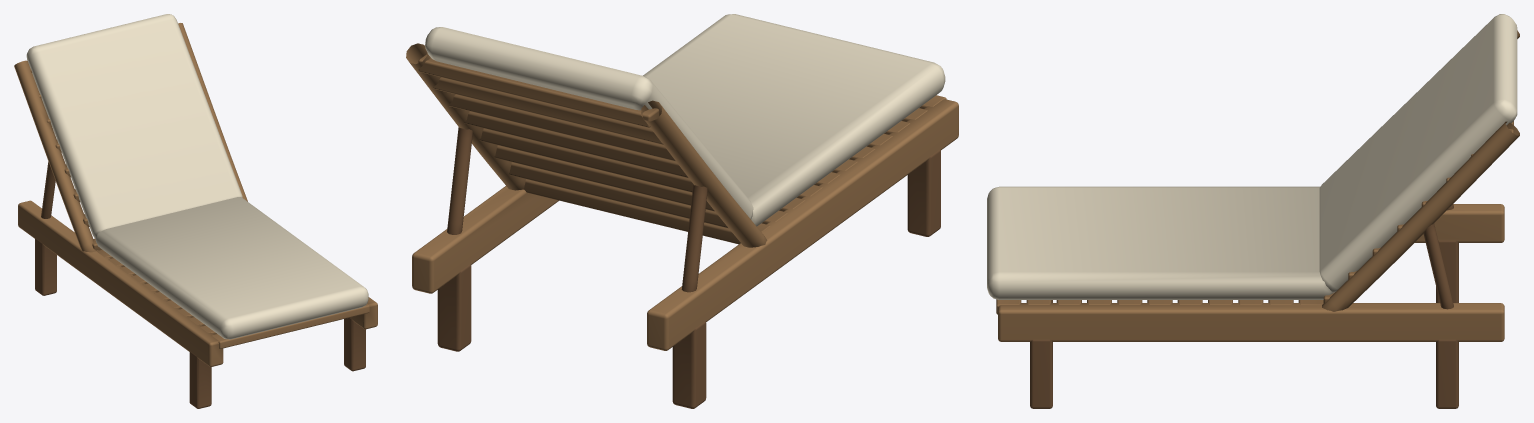
The model's file is lounger.glb.
3 renders of one model, left to right at view 1: azimuth 30°, elevation 25°; view 2: azimuth 150°, elevation 25°; view 3: azimuth 270°, elevation 25°, orthographic. The views are drawn at different scales.
Parts seen in each view (by area): view 1: Atelier_Lounger; view 2: Atelier_Lounger; view 3: Atelier_Lounger.
Boxes of the visible parts, x1=… form: Atelier_Lounger: x1=14, y1=14, x2=377, y2=408; Atelier_Lounger: x1=406, y1=14, x2=958, y2=408; Atelier_Lounger: x1=987, y1=14, x2=1519, y2=408.
Size of the model in its own units: 0.945 by 1.21 by 1.96.
